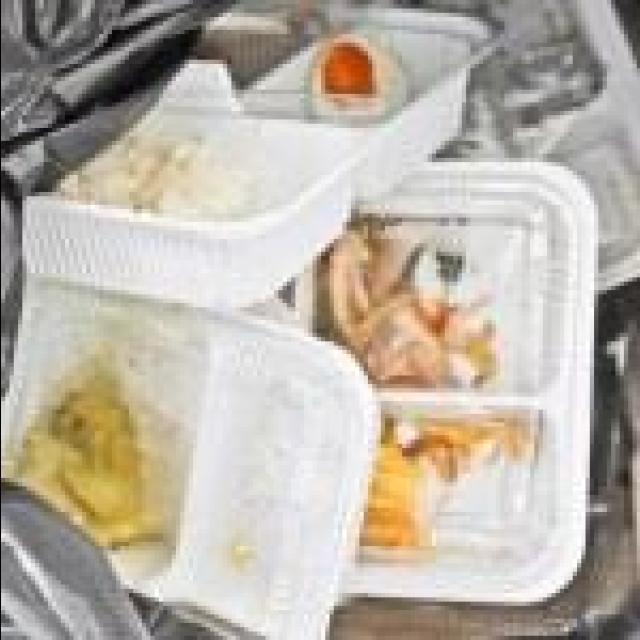Disposable: (23, 11, 489, 307), (0, 279, 379, 640), (322, 162, 596, 604), (414, 2, 640, 291)
Garbage: (1, 0, 640, 640)
